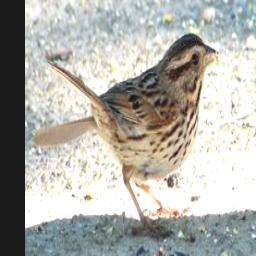Sparrow: (31, 30, 221, 241)
